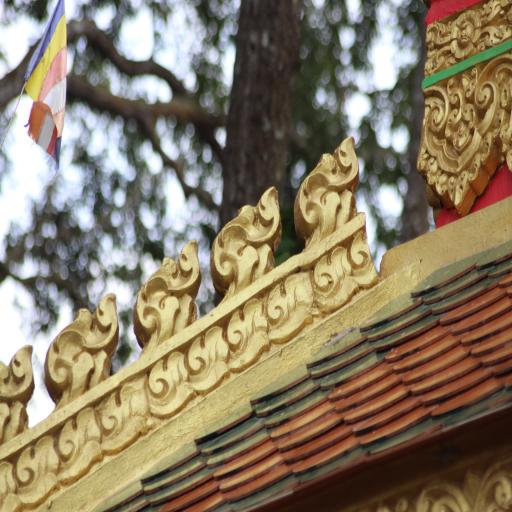hoa: (449, 16, 485, 58)
la: (316, 238, 374, 324), (12, 425, 62, 512), (101, 371, 152, 454), (62, 393, 106, 484), (272, 262, 314, 348), (226, 289, 267, 375), (149, 340, 191, 423), (191, 312, 228, 397), (424, 13, 456, 72), (484, 0, 512, 50)
lua: (422, 80, 512, 204), (212, 184, 284, 296), (294, 138, 363, 253), (47, 294, 121, 401), (138, 234, 200, 350), (0, 341, 39, 439)
